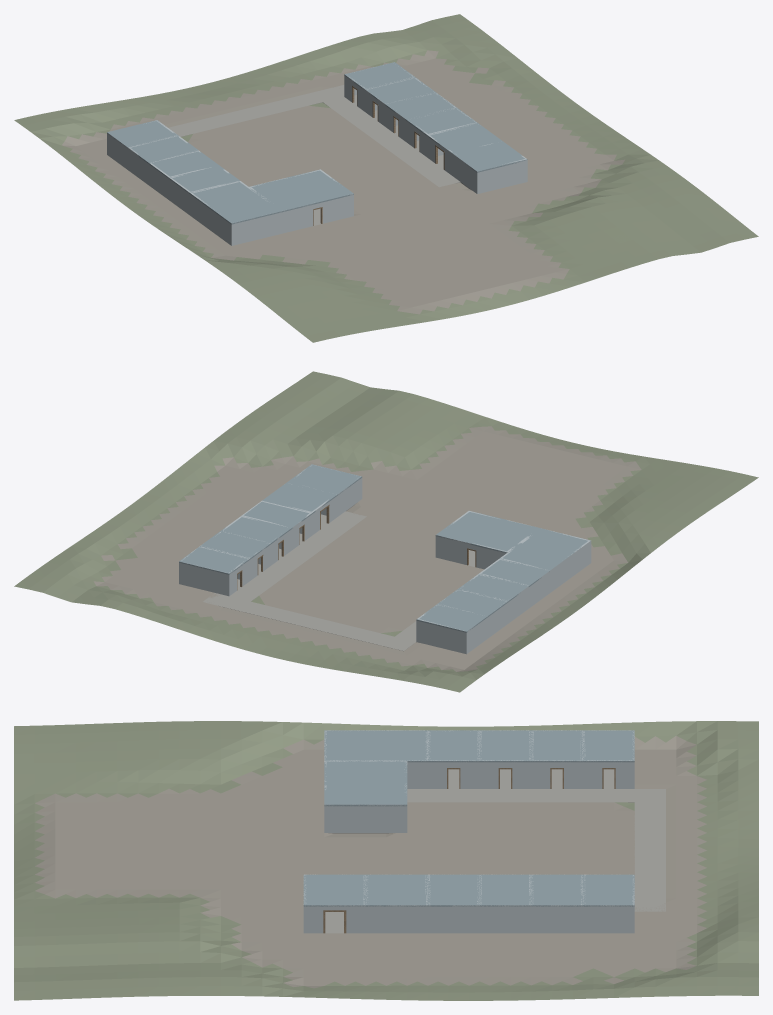
Rendered from motor-lodge.glb.
3 views of the same model, one above another, from view 1: azimuth 30°, elevation 25°; view 2: azimuth 150°, elevation 25°; view 3: azimuth 270°, elevation 25° (orthographic). The views are drawn at different scales.
Parts seen in each view (by area): view 1: Saved editor geographic earthworks WLD-16, WLD-16 eastwalk continuous founded floor region0, Ceiling cap office, Ceiling cap manager, WLD-16 northwalk continuous founded floor region0, Ceiling cap plant, Ceiling cap laundry, WLD-16 clean plant S end, WLD-16 clean manager S end, Ceiling cap room5, Ceiling cap room6, Ceiling cap room7 (+9 smaller); view 2: Saved editor geographic earthworks WLD-16, WLD-16 eastwalk continuous founded floor region0, WLD-16 northwalk continuous founded floor region0, Ceiling cap office, Ceiling cap manager, Ceiling cap plant, Ceiling cap laundry, WLD-16 clean room1 N end, WLD-16 clean room5 N end, Ceiling cap room5, Ceiling cap room1, Ceiling cap room2 (+8 smaller); view 3: Saved editor geographic earthworks WLD-16, Ceiling cap office, WLD-16 northwalk continuous founded floor region0, Ceiling cap manager, WLD-16 westwalk continuous founded floor region0, WLD-16 clean office E end, Ceiling cap laundry, Ceiling cap plant, Ceiling cap room3, Ceiling cap room7, Ceiling cap room1, Ceiling cap room2 (+18 smaller).
Part boxes in pixels (<box>): Saved editor geographic earthworks WLD-16: <box>14,14,758,342</box>; WLD-16 eastwalk continuous founded floor region0: <box>323,97,460,187</box>; Ceiling cap office: <box>249,170,353,212</box>; Ceiling cap manager: <box>190,181,281,224</box>; WLD-16 northwalk continuous founded floor region0: <box>168,88,343,136</box>; Ceiling cap plant: <box>452,141,527,172</box>; Ceiling cap laundry: <box>427,123,501,153</box>; WLD-16 clean plant S end: <box>476,158,527,193</box>; WLD-16 clean manager S end: <box>230,211,281,245</box>; Ceiling cap room5: <box>344,62,414,89</box>; Ceiling cap room6: <box>365,77,435,105</box>; Ceiling cap room7: <box>386,92,456,120</box>; Saved editor geographic earthworks WLD-16: <box>14,371,758,692</box>; WLD-16 eastwalk continuous founded floor region0: <box>229,511,366,601</box>; WLD-16 northwalk continuous founded floor region0: <box>217,596,415,651</box>; Ceiling cap office: <box>435,512,540,553</box>; Ceiling cap manager: <box>500,528,590,571</box>; Ceiling cap plant: <box>287,464,362,495</box>; Ceiling cap laundry: <box>262,482,337,513</box>; WLD-16 clean room1 N end: <box>416,618,467,654</box>; WLD-16 clean room5 N end: <box>179,562,230,596</box>; Ceiling cap room5: <box>179,546,249,574</box>; Ceiling cap room1: <box>416,604,487,632</box>; Ceiling cap room2: <box>437,589,508,617</box>; Saved editor geographic earthworks WLD-16: <box>14,721,758,1000</box>; Ceiling cap office: <box>324,761,407,806</box>; WLD-16 northwalk continuous founded floor region0: <box>634,789,665,902</box>; Ceiling cap manager: <box>324,730,427,762</box>; WLD-16 westwalk continuous founded floor region0: <box>407,789,634,802</box>; WLD-16 clean office E end: <box>327,804,404,832</box>; Ceiling cap laundry: <box>365,874,427,906</box>; Ceiling cap plant: <box>303,874,365,906</box>; Ceiling cap room3: <box>479,730,531,762</box>; Ceiling cap room7: <box>479,874,531,906</box>; Ceiling cap room1: <box>583,730,634,762</box>; Ceiling cap room2: <box>531,730,582,762</box>.
Size of the model in its own units: 62 by 3.75 by 72.
55 materials, 45 textured.
